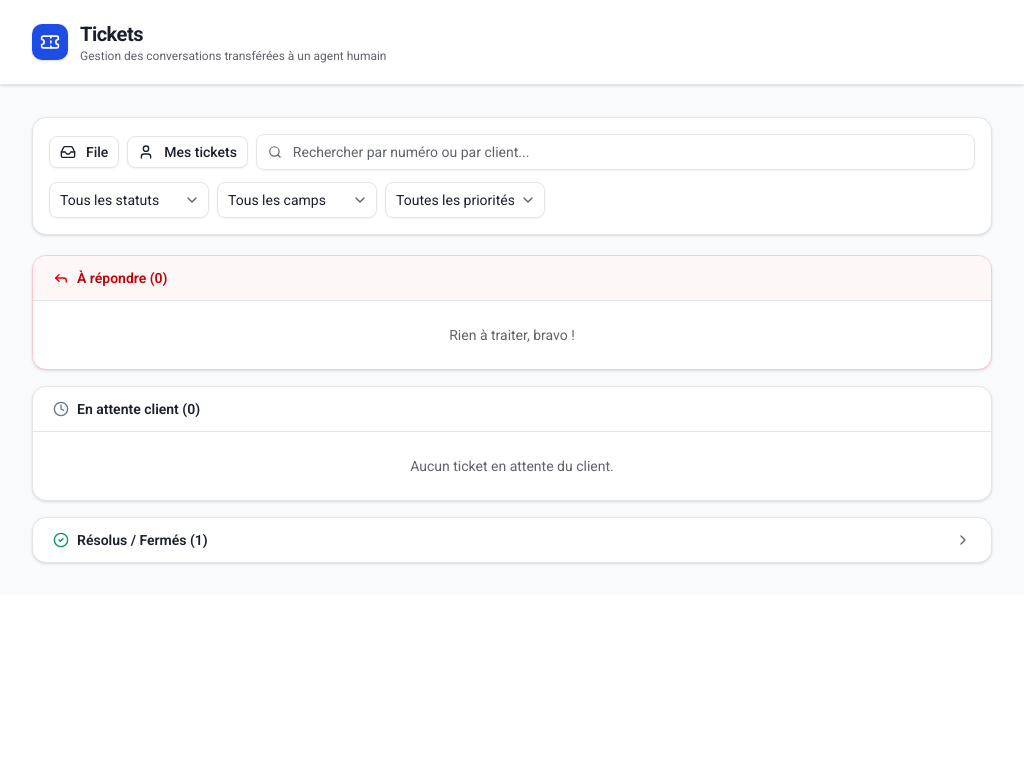
Scenario: TicketsListPage — vue groupée par défaut › expands the collapsed 'Résolus / Fermés' section on click
The image size is (1024, 768).
Click the button "Résolus / Fermés (1)": coordinates (132, 540) [33,518,991,562]
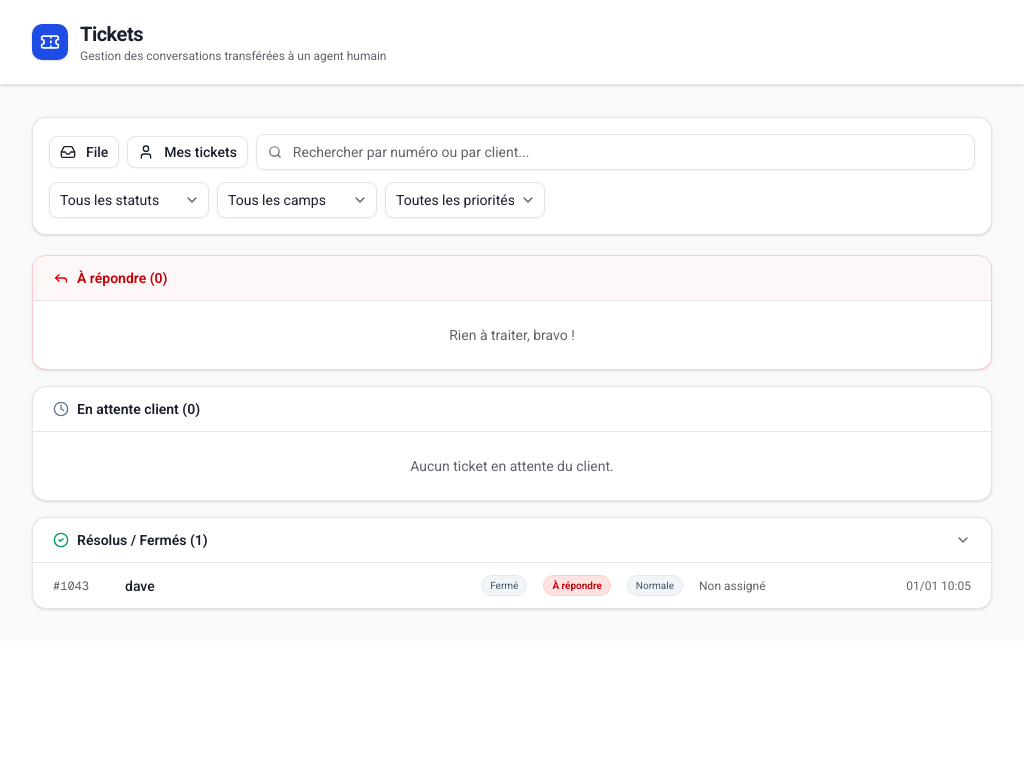
Check: the text "#1043" is shown, box [53,578,89,594]
